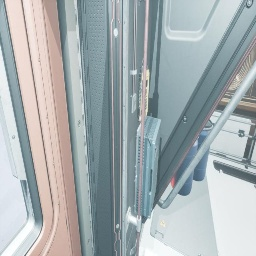EmergencyPhone ,: (137, 58, 149, 122)
